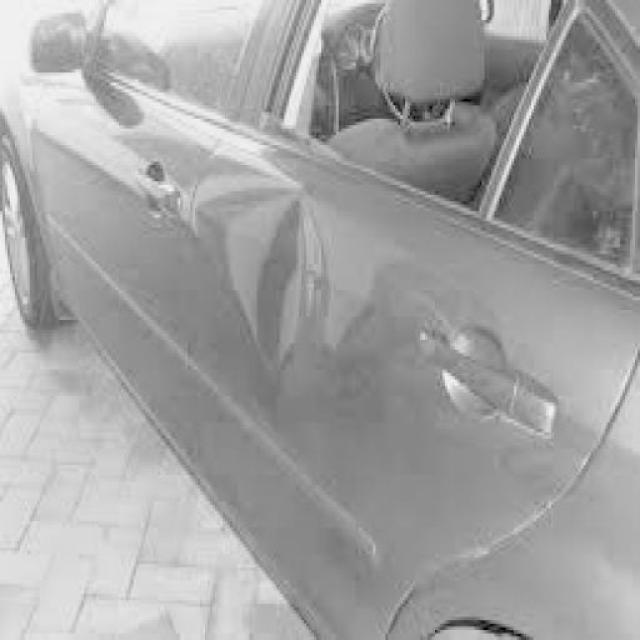car damage: (212, 183, 328, 386)
